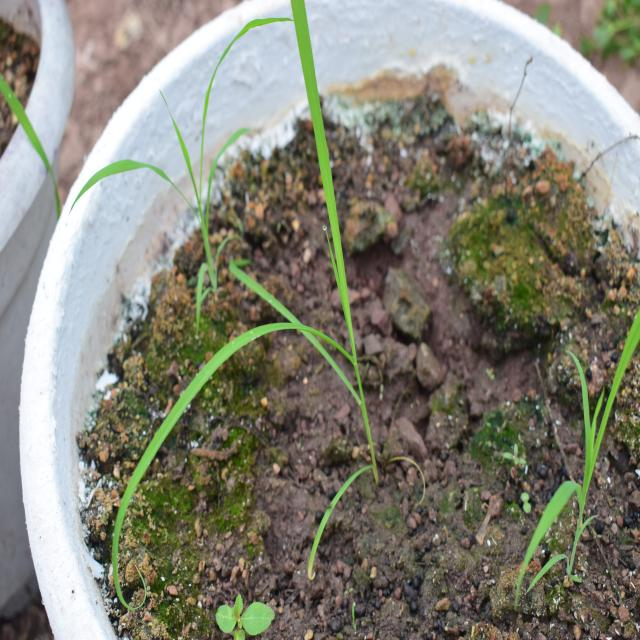barnyard_grass: (114, 1, 395, 521)
